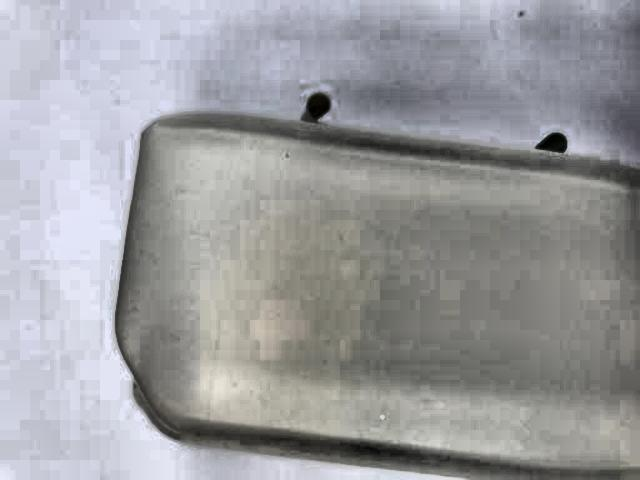Plastic: (109, 71, 640, 480)
